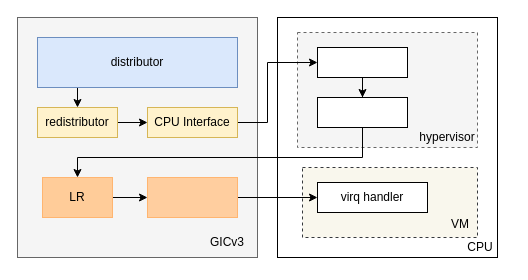
Some shapes in this 528 by 280 pixel diagram are drawn without their labels. The centre of each missing label's shape, as x and y in pixels:
"irq handler" belongs at pixel 362 62.
"vCPU Interface" belongs at pixel 192 197.
"virq inject" belongs at pixel 362 112.
